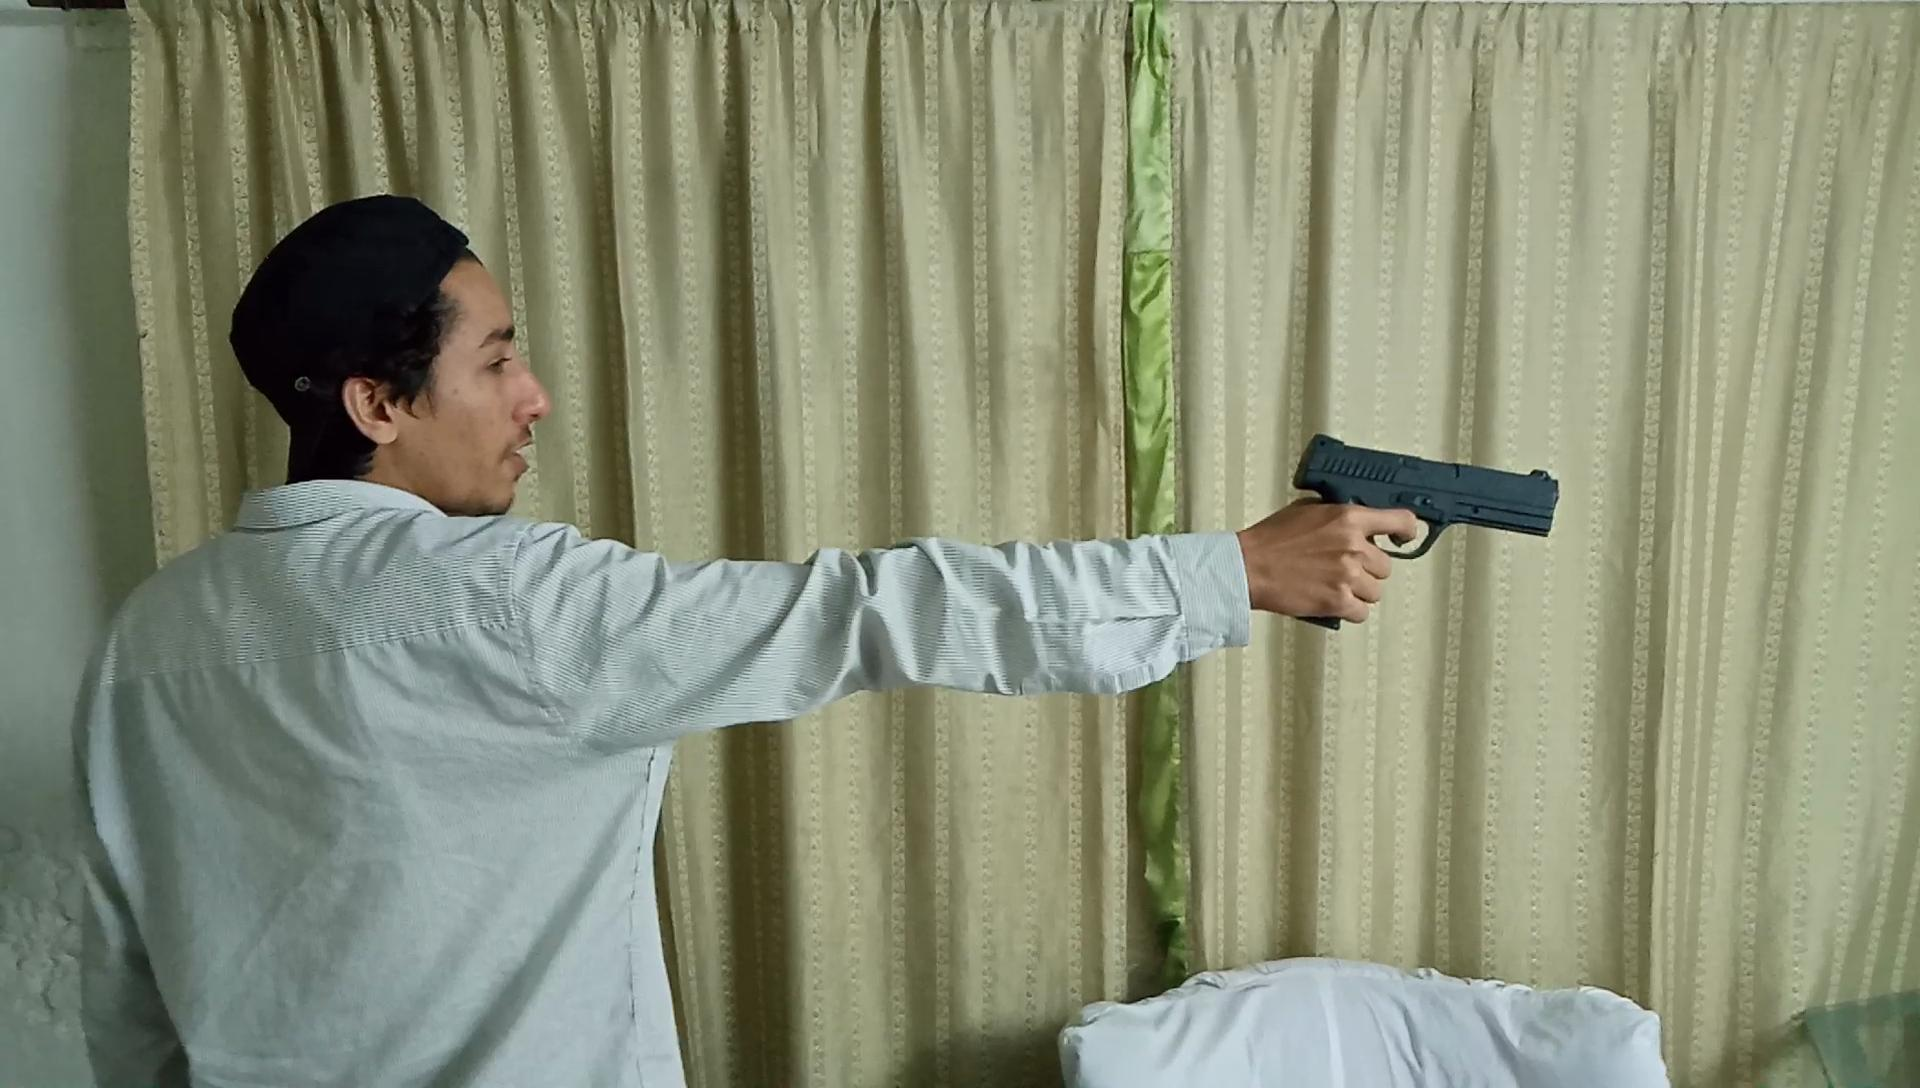criminal: (65, 183, 1567, 1088)
weapon: (1284, 431, 1565, 633)
